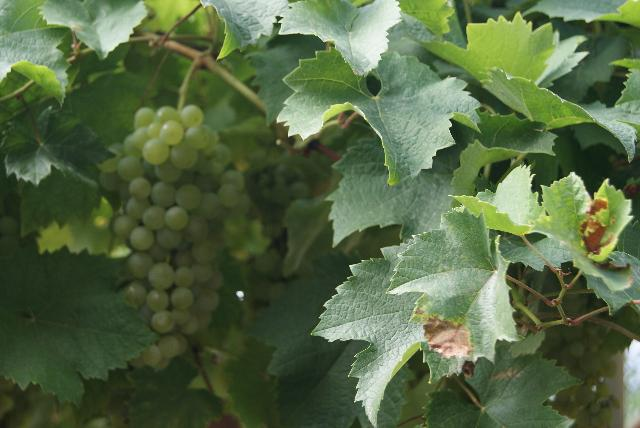grapes: (100, 105, 249, 370)
